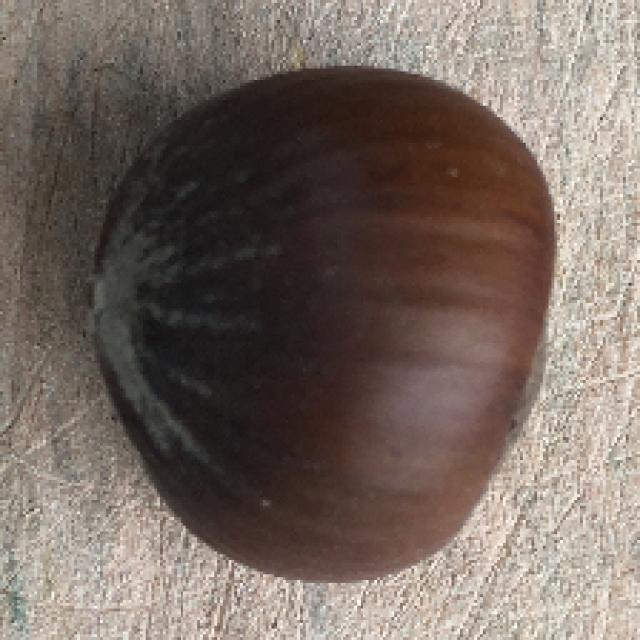DamagedHazelnut: (84, 66, 555, 582)
